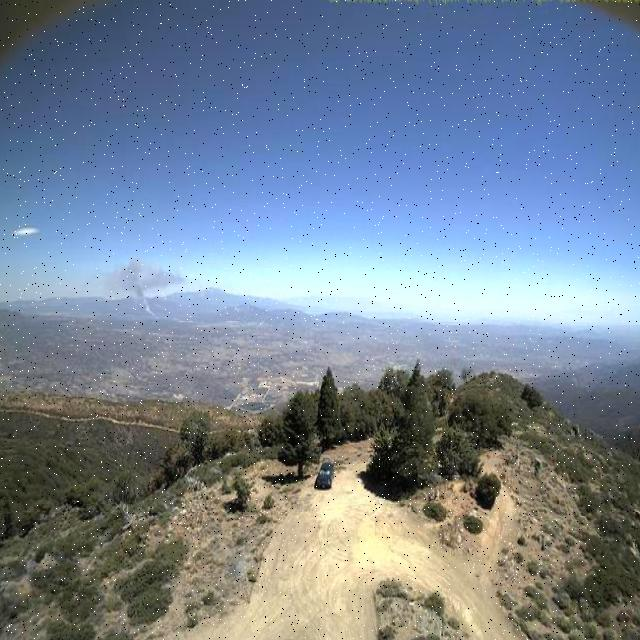smoke: (100, 256, 192, 317)
